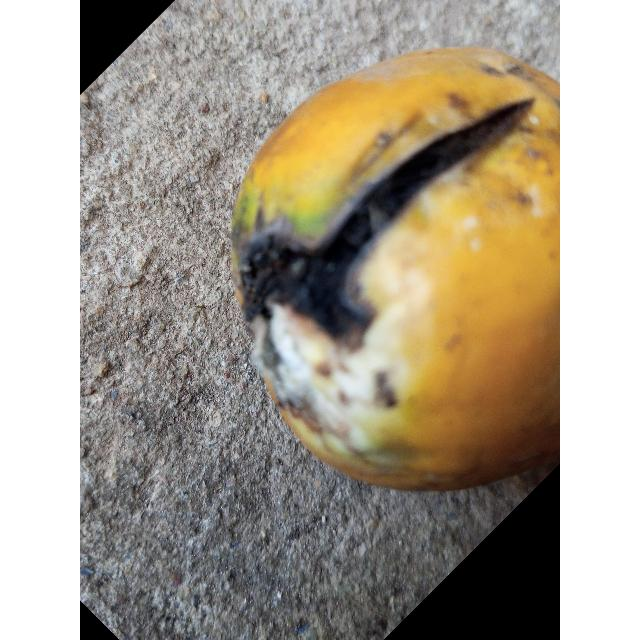damaged: (230, 46, 560, 495)
